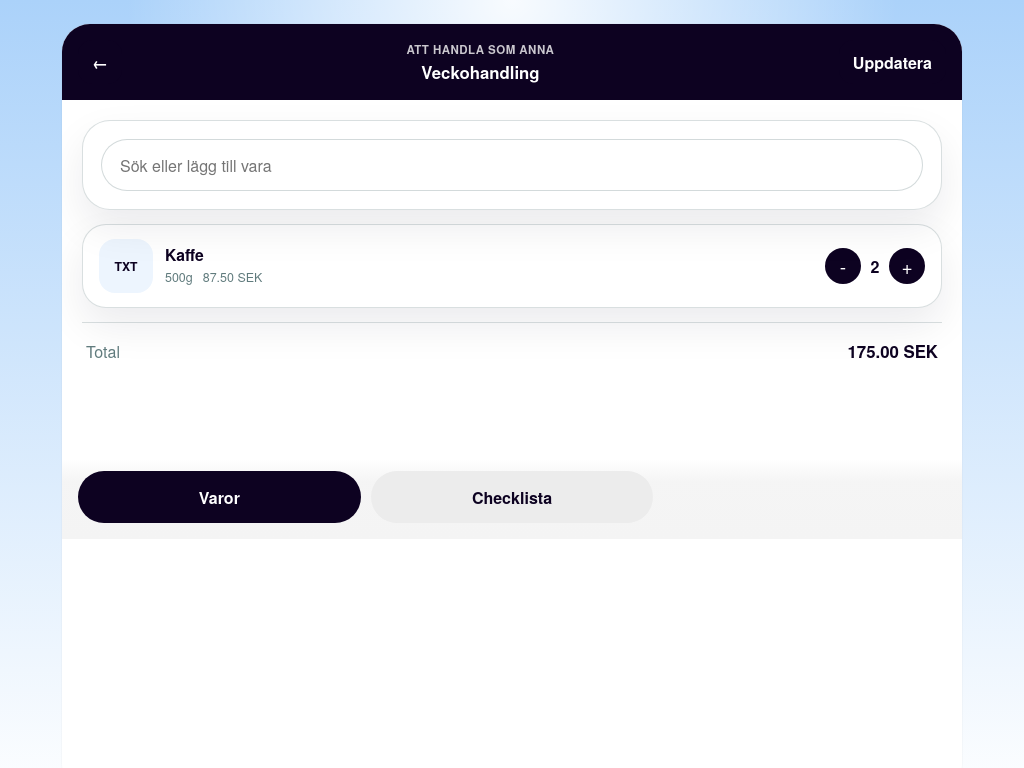
ShoppingListDetailPage › does not post a varor quantity-adjust request when the net delta returns to zero
Expected: the text "Kaffe" is shown, [165, 243, 204, 266]
What coordinates should you click on to do the following:
click the button named "Öka Kaffe"
I would click on:
 (907, 266)
Its box is [889, 248, 925, 284].
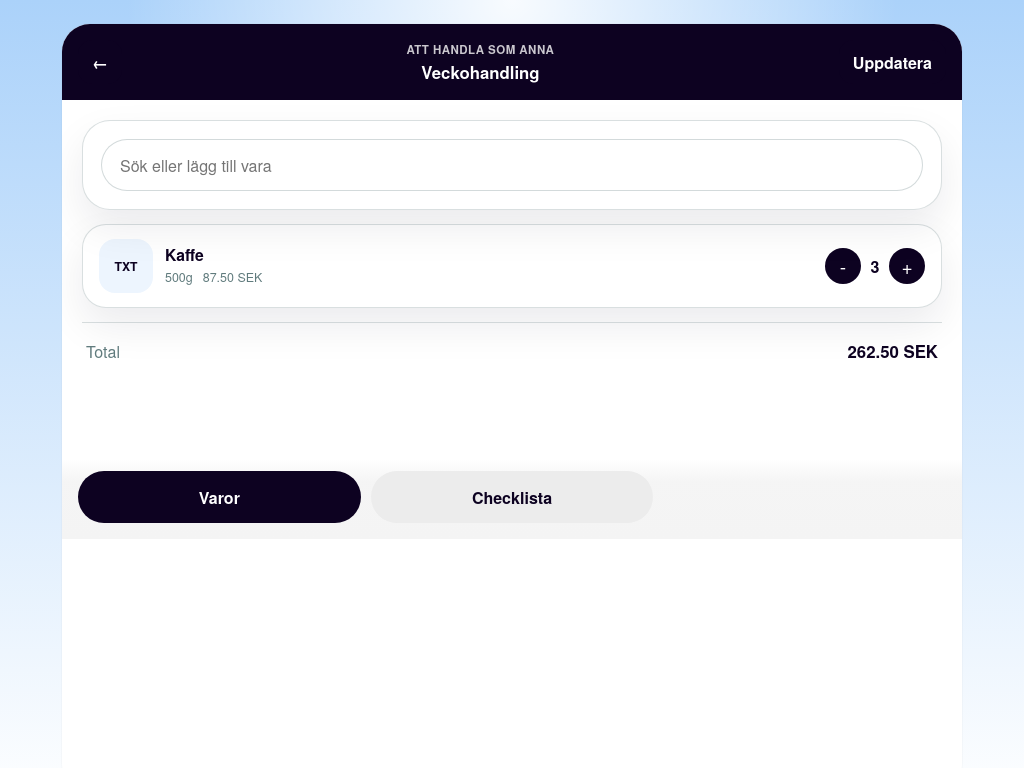
What coordinates should you click on to do the following:
click the button named "Minska Kaffe"
I would click on:
 (843, 266)
Its box is [825, 248, 861, 284].
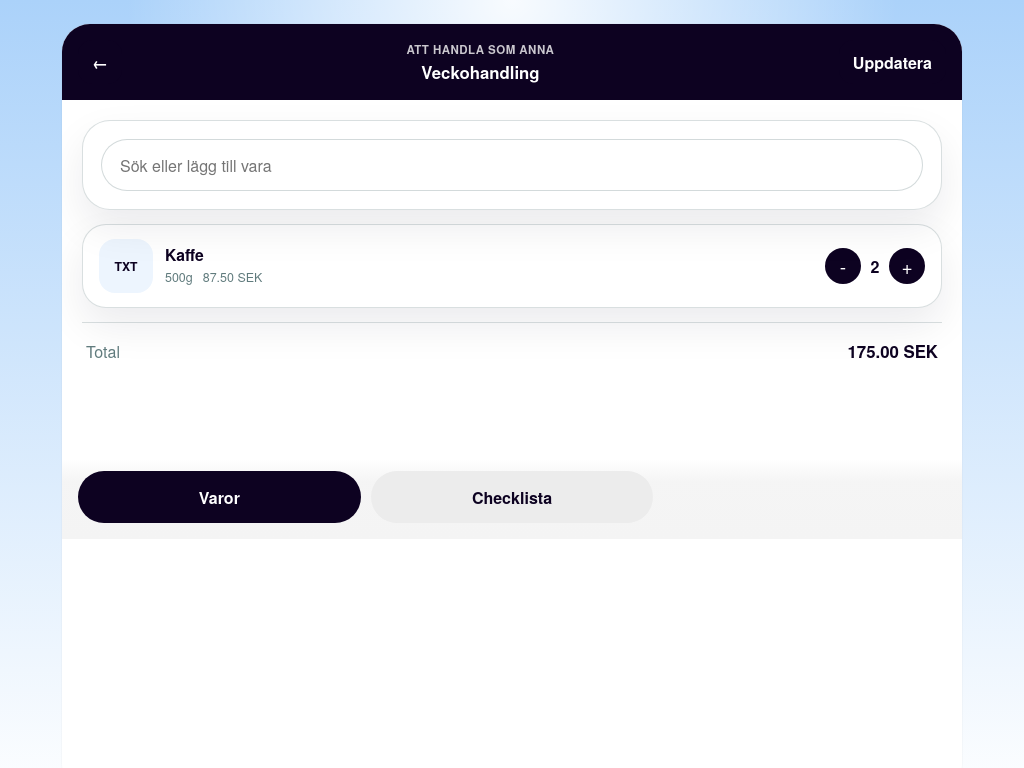
Expected: the element named "Antal för Kaffe" shows "2", [870, 254, 879, 278]
Expected: the text "175.00 SEK" is shown, [848, 339, 938, 363]
